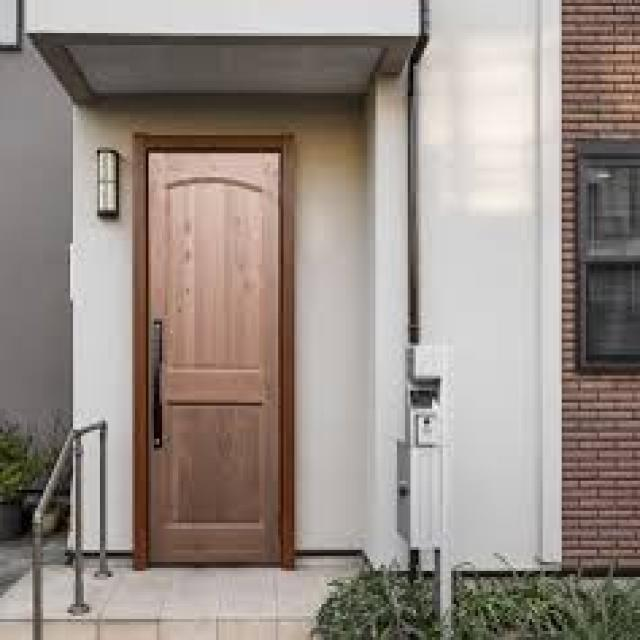door: (144, 143, 285, 566)
